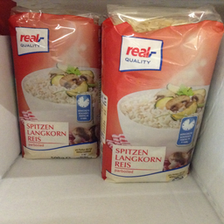rice: (99, 3, 222, 183), (9, 6, 100, 159)
